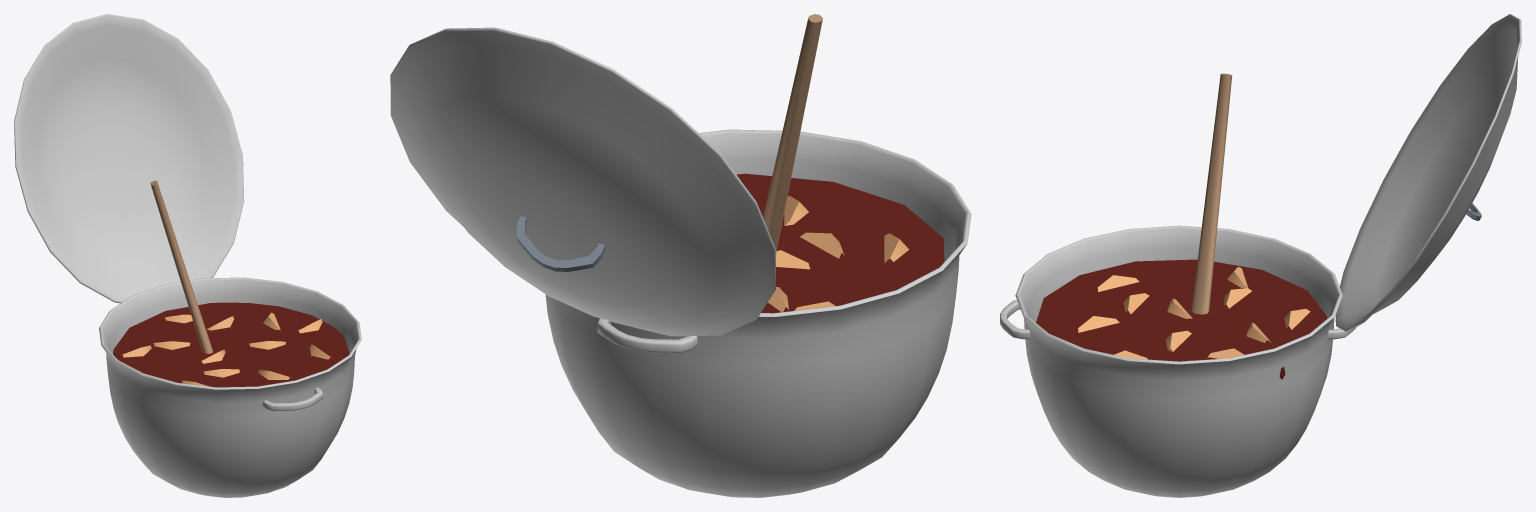
File: Cooked-Food-3.fbx
3 views of the same model, side by side, from view 1: azimuth 30°, elevation 25°; view 2: azimuth 150°, elevation 25°; view 3: azimuth 270°, elevation 25° (orthographic). The views are drawn at different scales.
Parts seen in each view (by area): view 1: Cooked-Food-3; view 2: Cooked-Food-3; view 3: Cooked-Food-3.
Part boxes in pixels (x1=…): Cooked-Food-3: x1=14, y1=14, x2=361, y2=497; Cooked-Food-3: x1=390, y1=14, x2=971, y2=497; Cooked-Food-3: x1=1000, y1=14, x2=1521, y2=497.
Size of the model in its own units: 0.5 by 0.7445 by 0.8011.
